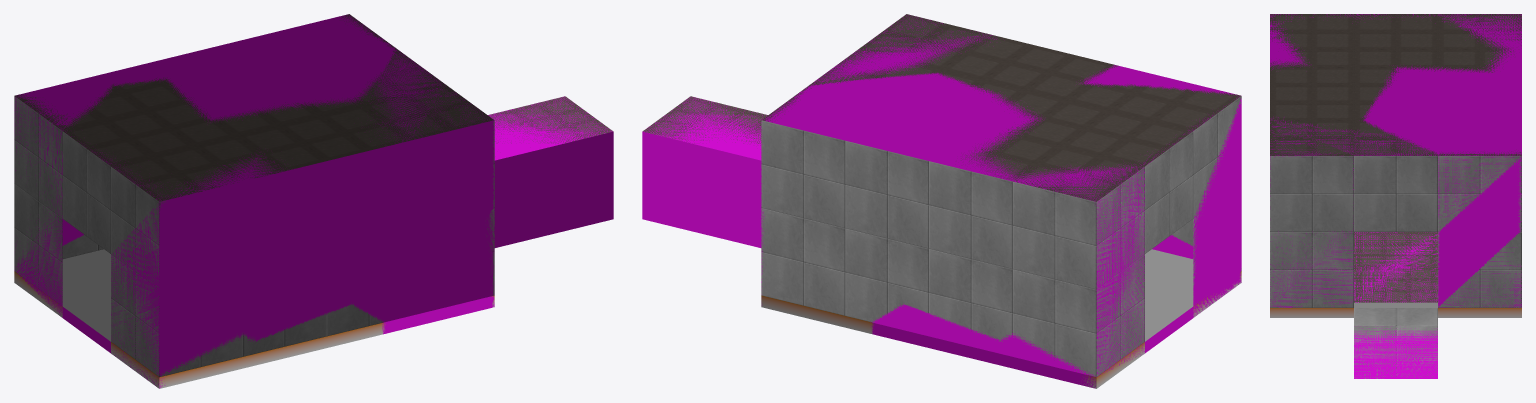
Rendered from mint_lava_room.fbx.
The picture shows the model from 3 angles, left to right: view 1: azimuth 30°, elevation 25°; view 2: azimuth 150°, elevation 25°; view 3: azimuth 270°, elevation 25°; orthographic projection. The views are drawn at different scales.
Parts seen in each view (by area): view 1: wall (×2), moltenlava, floorbase; view 2: wall (×2), moltenlava, floorbase; view 3: wall (×2), moltenlava_hall, floor36, moltenlava.
Part boxes in pixels (x1,y1,x2,y2): wall (×2): (14, 14, 613, 388); moltenlava: (62, 249, 110, 341); floorbase: (62, 307, 110, 353); wall (×2): (642, 14, 1241, 388); moltenlava: (1145, 249, 1193, 341); floorbase: (1145, 307, 1193, 353); wall (×2): (1270, 14, 1521, 317); moltenlava_hall: (1354, 308, 1437, 378); floor36: (1354, 328, 1437, 378); moltenlava: (1354, 302, 1437, 307).
Size of the model in its own units: 90 by 32 by 45.
